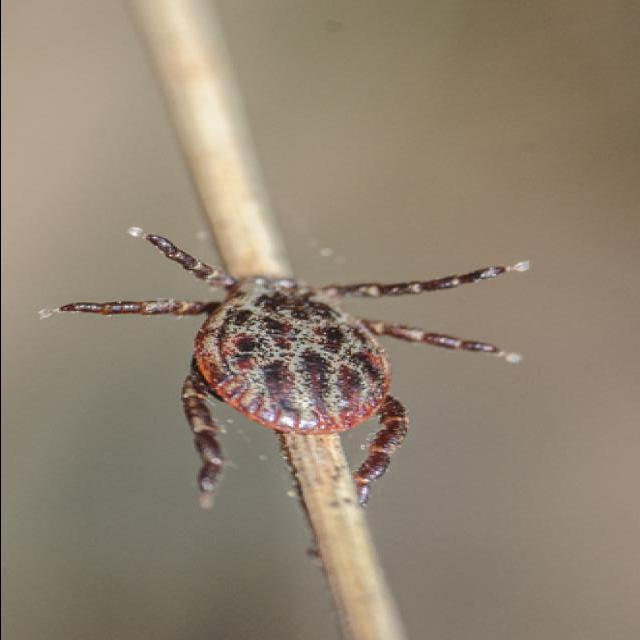Dermacentor Reticulatus-M: (62, 228, 512, 508)
